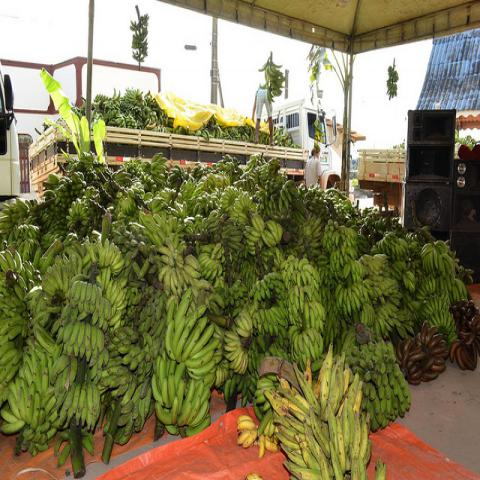truck: (30, 104, 344, 191)
